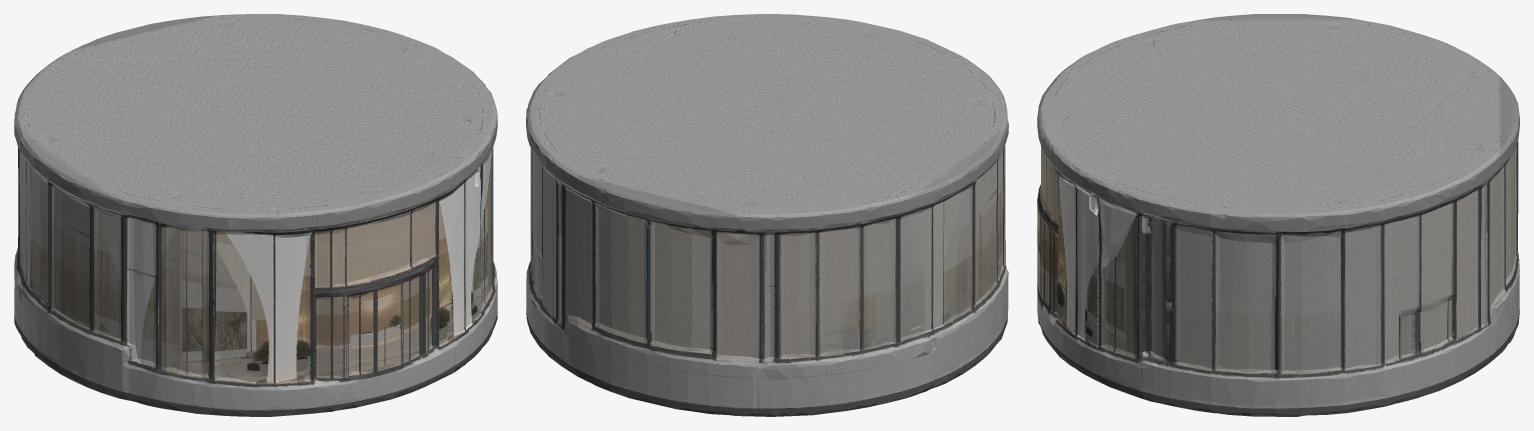
Rendered from kit3-base.glb.
The picture shows the model from 3 angles, left to right: view 1: azimuth 30°, elevation 25°; view 2: azimuth 150°, elevation 25°; view 3: azimuth 270°, elevation 25°; orthographic projection.
Parts seen in each view (by area): view 1: Mesh_0.001; view 2: Mesh_0.001; view 3: Mesh_0.001.
Part boxes in pixels (x1,y1,x2,y2): Mesh_0.001: (14,14,497,416); Mesh_0.001: (526,14,1008,416); Mesh_0.001: (1037,14,1519,416).
Bounding box in the file's own units: 0.9998 × 0.4635 × 0.9999.
1 material, 1 textured.
